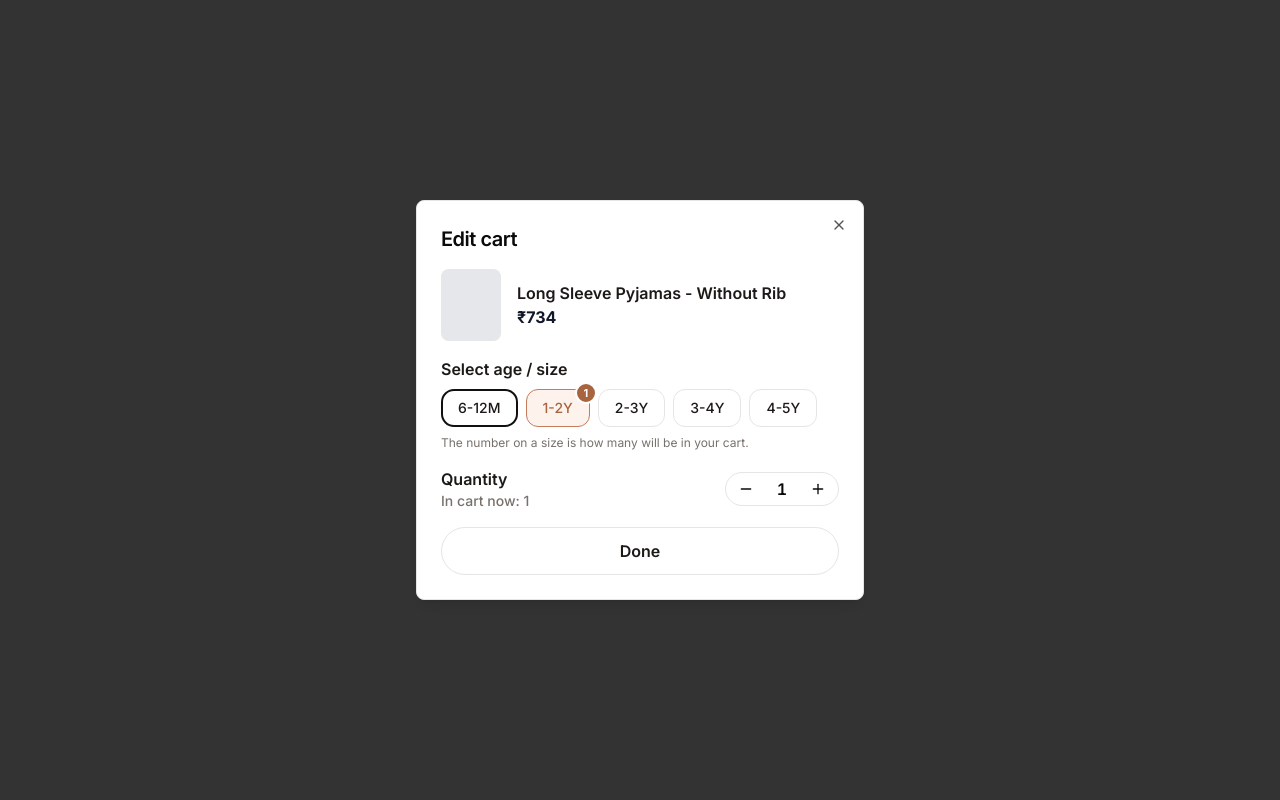
Test: QuickAddDialog with the product already in the cart › stops at the size's stock
Click the button named "Increase quantity".
click(818, 489)  # box [802,473,834,505]
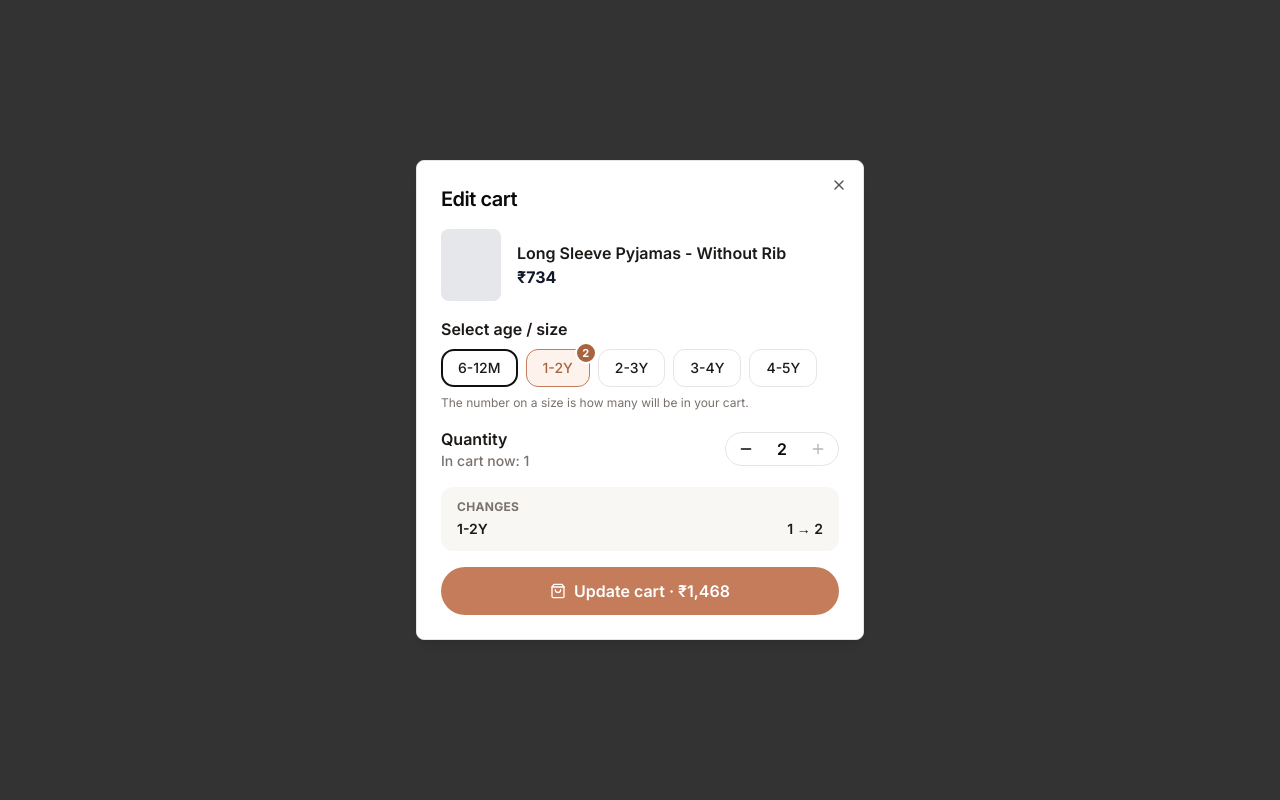
Now the text named "Quantity" reads "2", box [777,439,787,459]
Now the button named "Increase quantity" is disabled, box [802,433,834,465]
